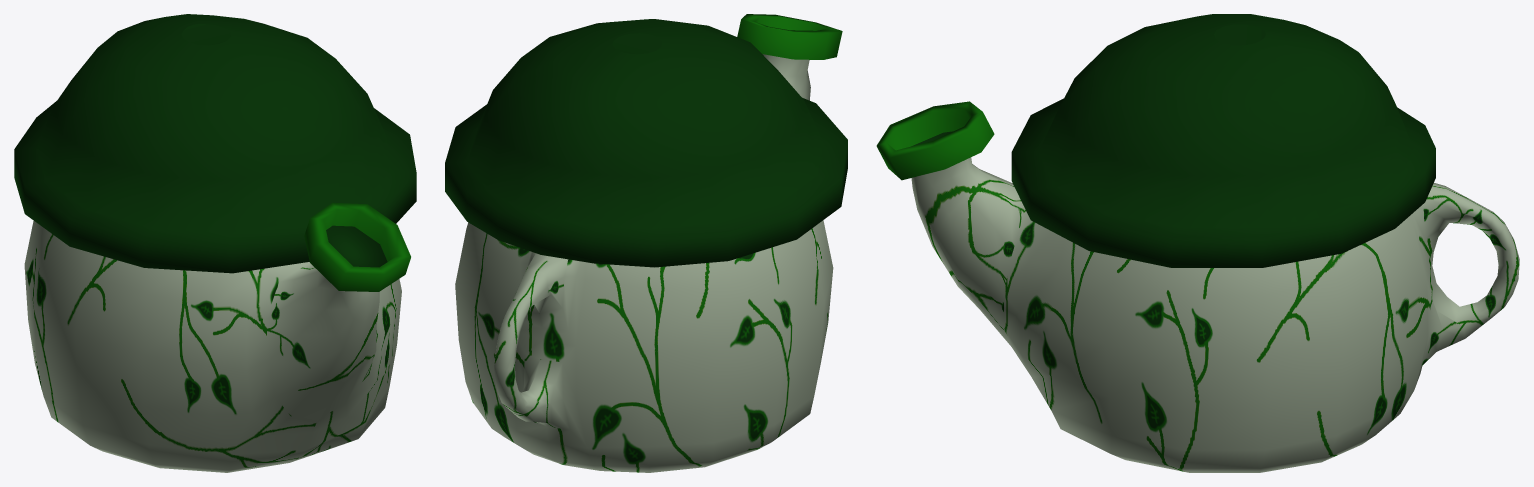
The model's file is GroundRange.fbx.
3 renders of one model, left to right at view 1: azimuth 30°, elevation 25°; view 2: azimuth 150°, elevation 25°; view 3: azimuth 270°, elevation 25°, orthographic.
Visible parts, largest first — view 1: Cylinder.004, Cylinder.003; view 2: Cylinder.003, Cylinder.004; view 3: Cylinder.003, Cylinder.004.
Part boxes in pixels (bbox=[...]): Cylinder.004: bbox=[14, 14, 416, 273]; Cylinder.003: bbox=[24, 202, 410, 472]; Cylinder.003: bbox=[455, 14, 842, 472]; Cylinder.004: bbox=[445, 19, 847, 267]; Cylinder.003: bbox=[876, 101, 1519, 472]; Cylinder.004: bbox=[1011, 14, 1435, 267].
Size of the model in its own units: 215 by 222 by 345.
